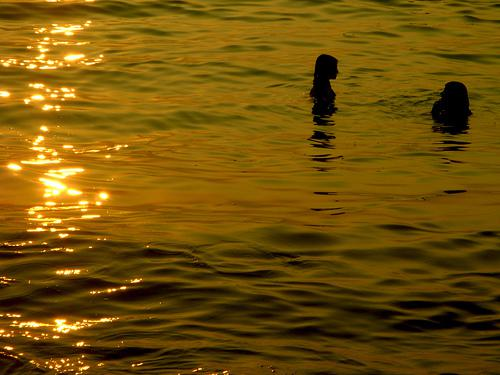swimmer: (431, 80, 472, 123), (310, 52, 339, 102)
